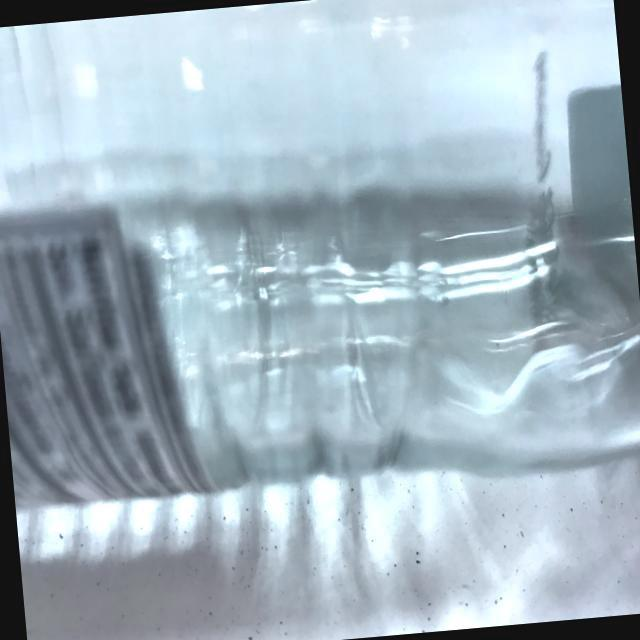plastic: (0, 0, 640, 557)
